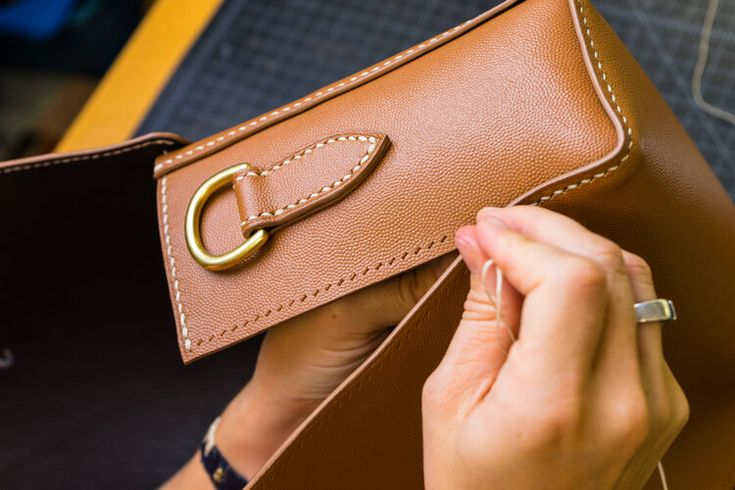cuero: (155, 1, 735, 490)
